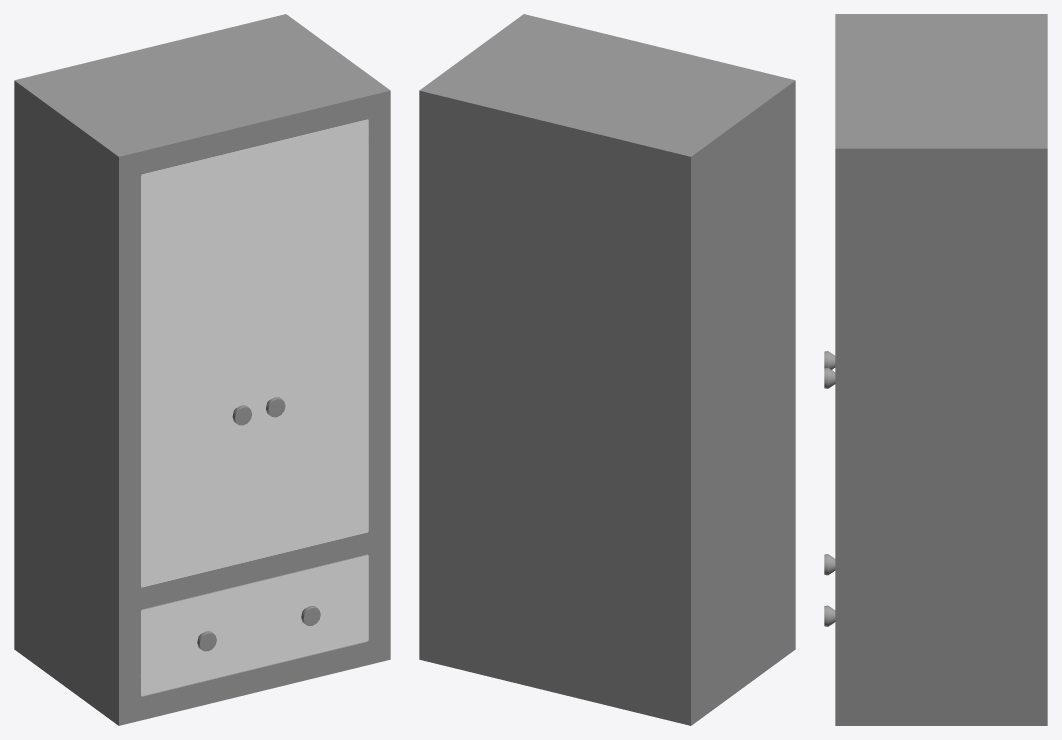
File: closet2_modern.glb
3 renders of one model, left to right at view 1: azimuth 30°, elevation 25°; view 2: azimuth 150°, elevation 25°; view 3: azimuth 270°, elevation 25°, orthographic.
Parts seen in each view (by area): view 1: Box002; view 2: Box002; view 3: Box002.
Boxes of the visible parts, x1=… form: Box002: x1=14, y1=14, x2=390, y2=725; Box002: x1=419, y1=14, x2=795, y2=725; Box002: x1=824, y1=14, x2=1047, y2=725.
Bounding box in the file's own units: 0.12 × 0.24 × 0.0842.
1 material, 1 textured.
